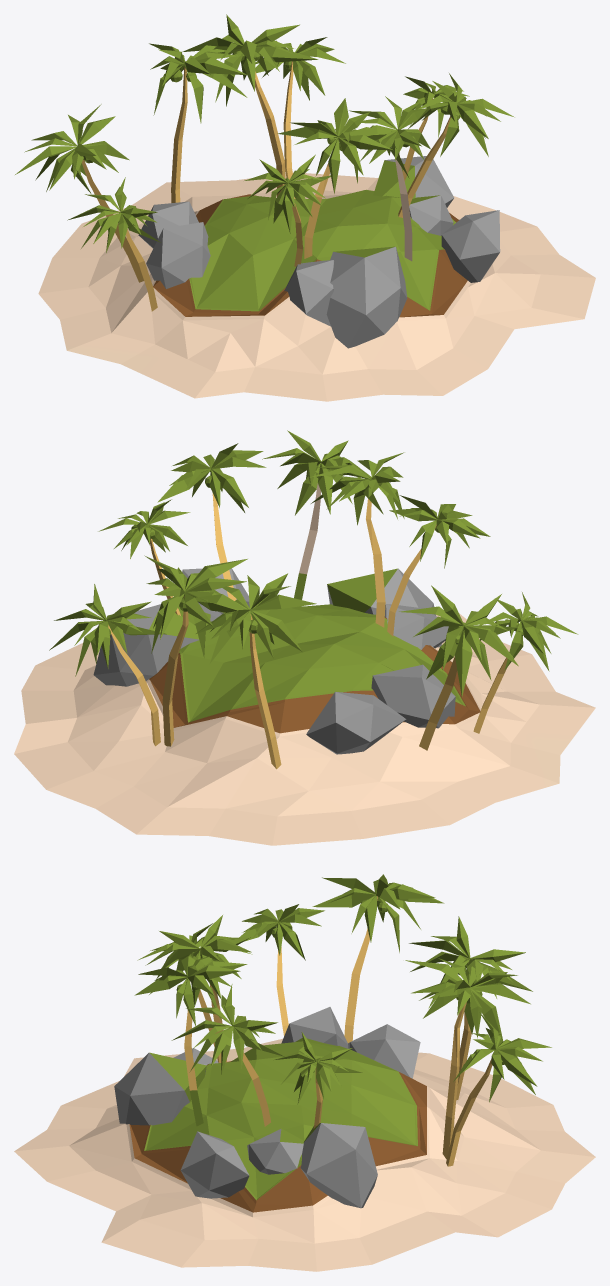
Rendered from HomeIsland-transformed.glb.
3 renders of one model, top to bottom at view 1: azimuth 30°, elevation 25°; view 2: azimuth 150°, elevation 25°; view 3: azimuth 270°, elevation 25°, orthographic. The views are drawn at different scales.
Parts seen in each view (by area): view 1: Island; view 2: Island; view 3: Island.
Part boxes in pixels (x1,y1,x2,y2): Island: [15, 14, 595, 401]; Island: [14, 430, 595, 845]; Island: [14, 874, 595, 1271].
Bounding box in the file's own units: 104 × 44.33 × 107.
1 material, 1 textured.
